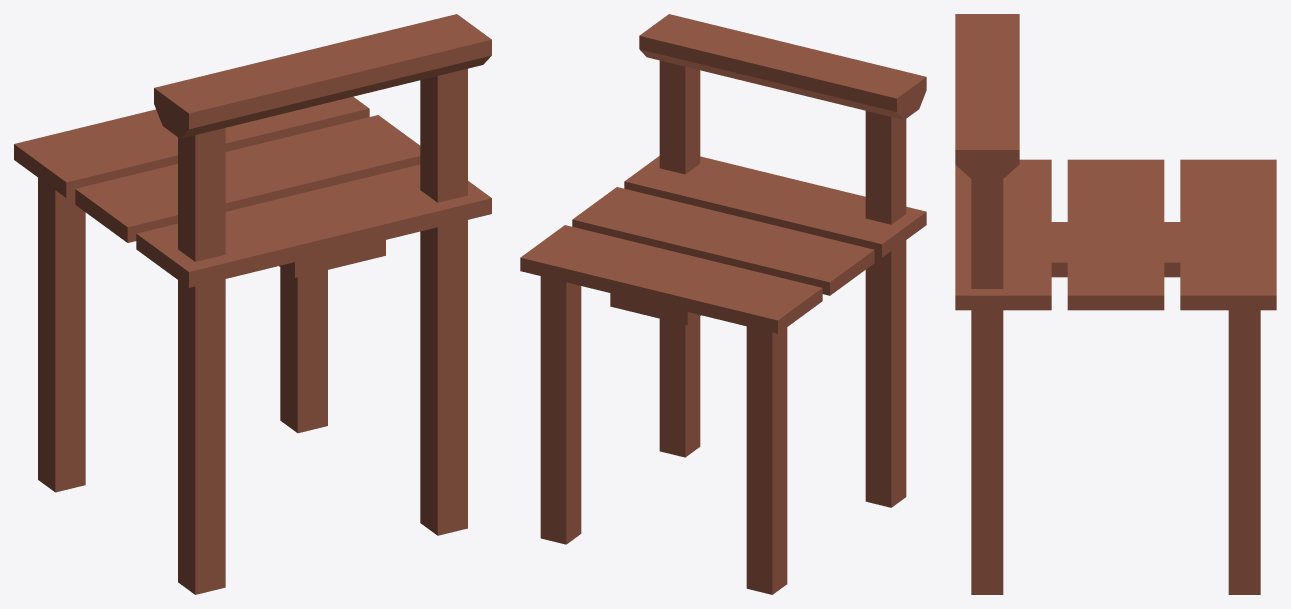
The model's file is scaffold_small_medium_railing 1.fbx.
3 renders of one model, left to right at view 1: azimuth 30°, elevation 25°; view 2: azimuth 150°, elevation 25°; view 3: azimuth 270°, elevation 25°, orthographic. The views are drawn at different scales.
Parts seen in each view (by area): view 1: scaffold_small_medium_railing; view 2: scaffold_small_medium_railing; view 3: scaffold_small_medium_railing.
Boxes of the visible parts, <box> form: scaffold_small_medium_railing: <box>14,14,491,594</box>; scaffold_small_medium_railing: <box>520,14,926,594</box>; scaffold_small_medium_railing: <box>955,14,1276,594</box>.
Size of the model in its own units: 200 by 310 by 200.
